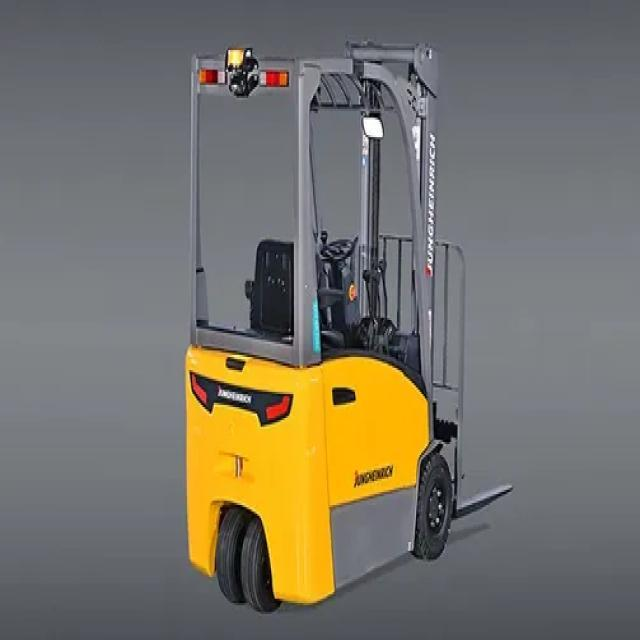forklift: (164, 17, 487, 633)
